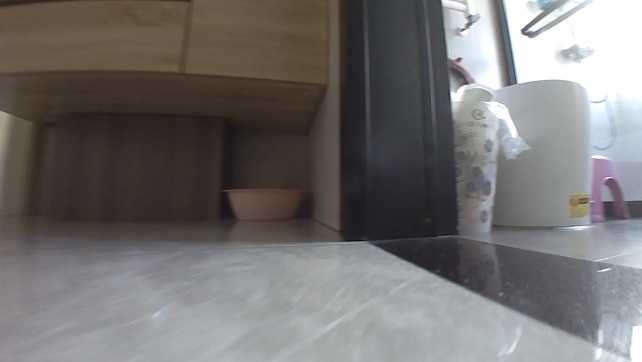plastic_stool: (590, 152, 628, 223)
toilet: (494, 76, 591, 229)
